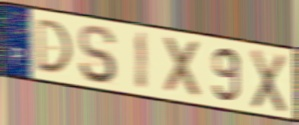9: (212, 46, 241, 103)
D: (35, 17, 74, 75)
I: (135, 29, 149, 93)
S: (78, 23, 118, 86)
X: (163, 34, 204, 101), (249, 47, 287, 116)
